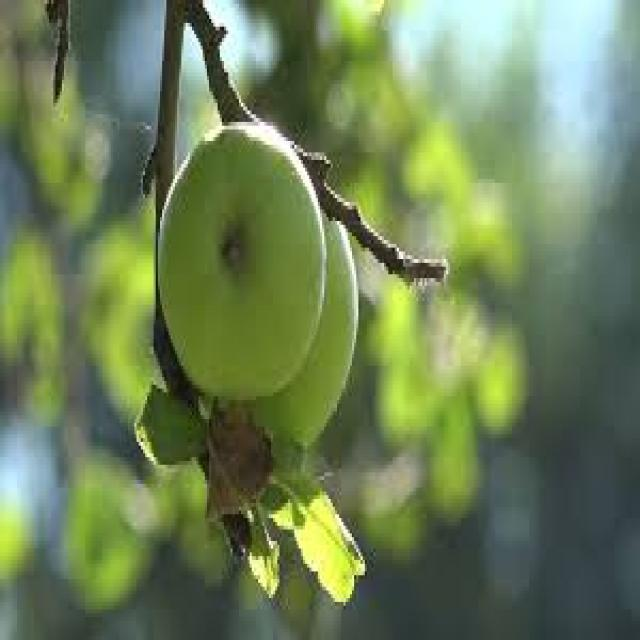organic waste: (152, 118, 324, 392), (235, 206, 358, 450)
